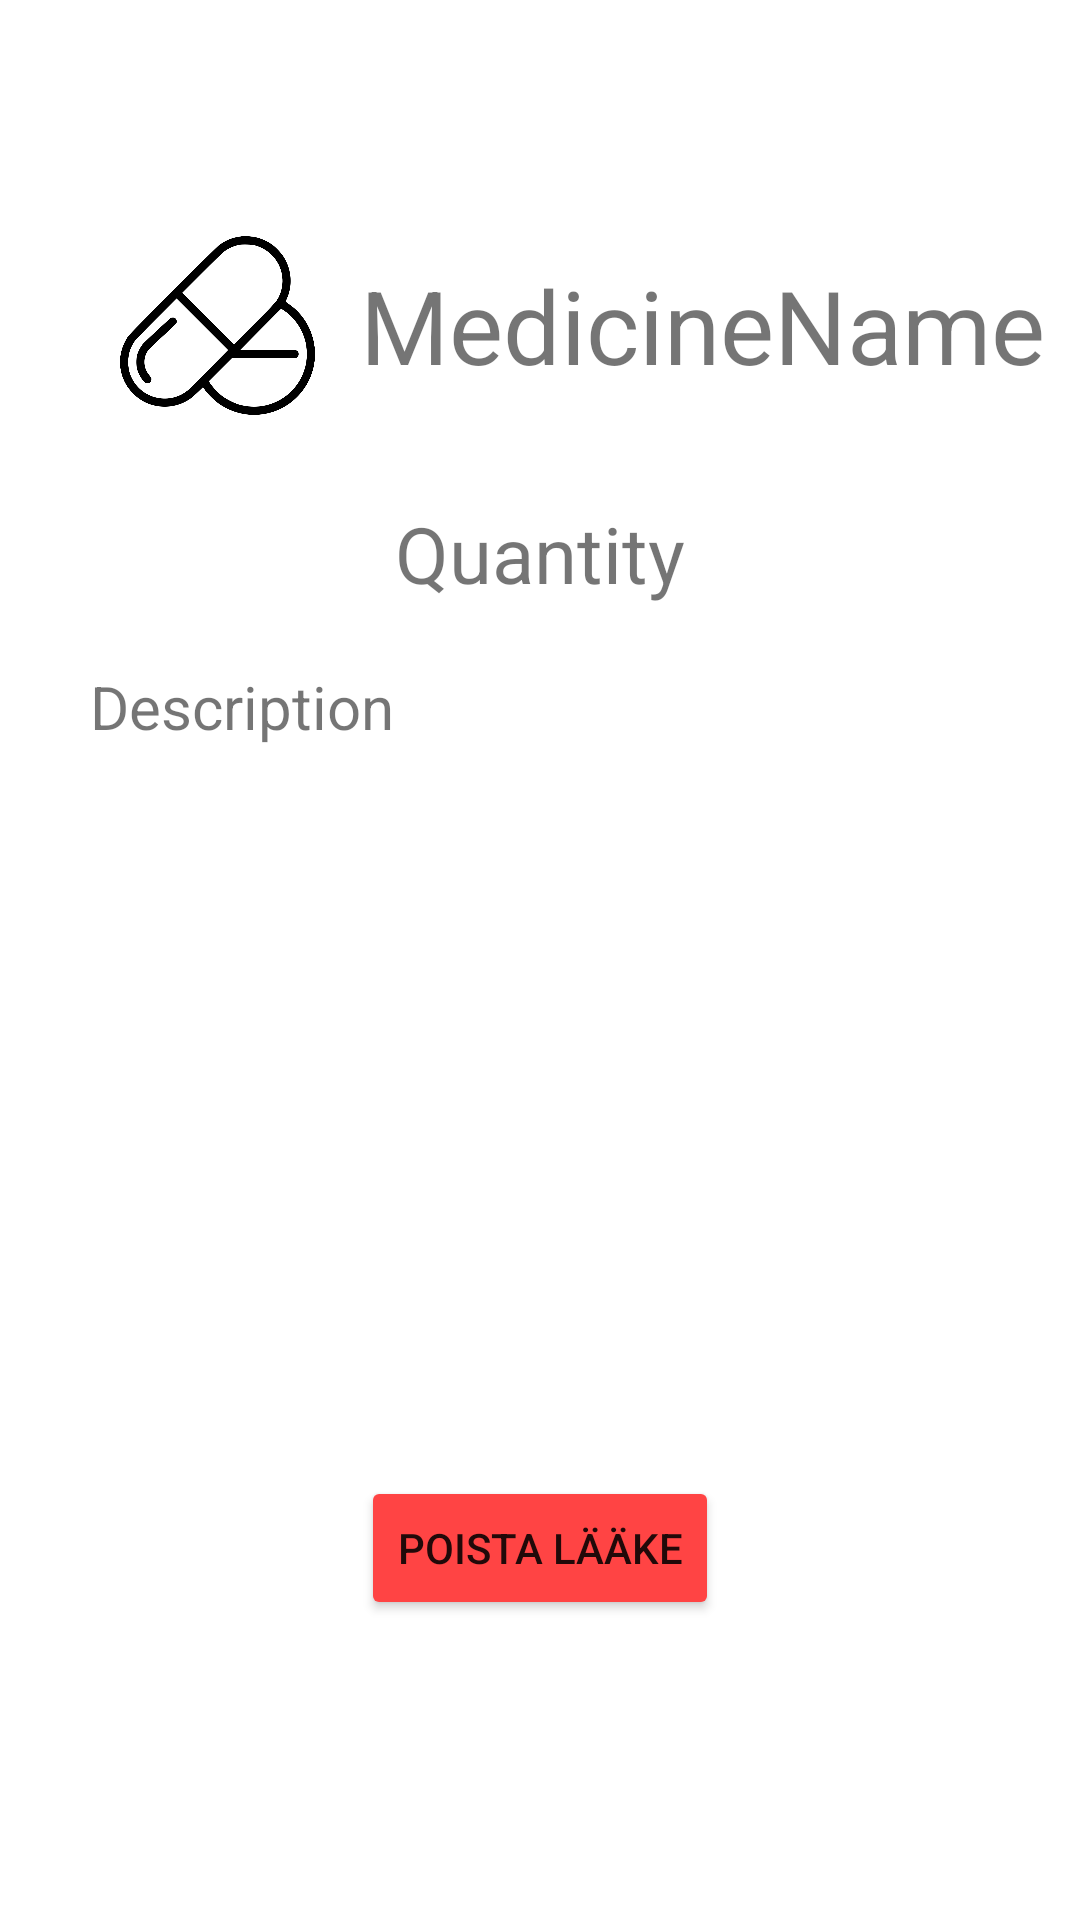

Icon click points for this 1080 × 1920 phone screenshot, format (x=x, y=y):
pill: (x=217, y=325)
